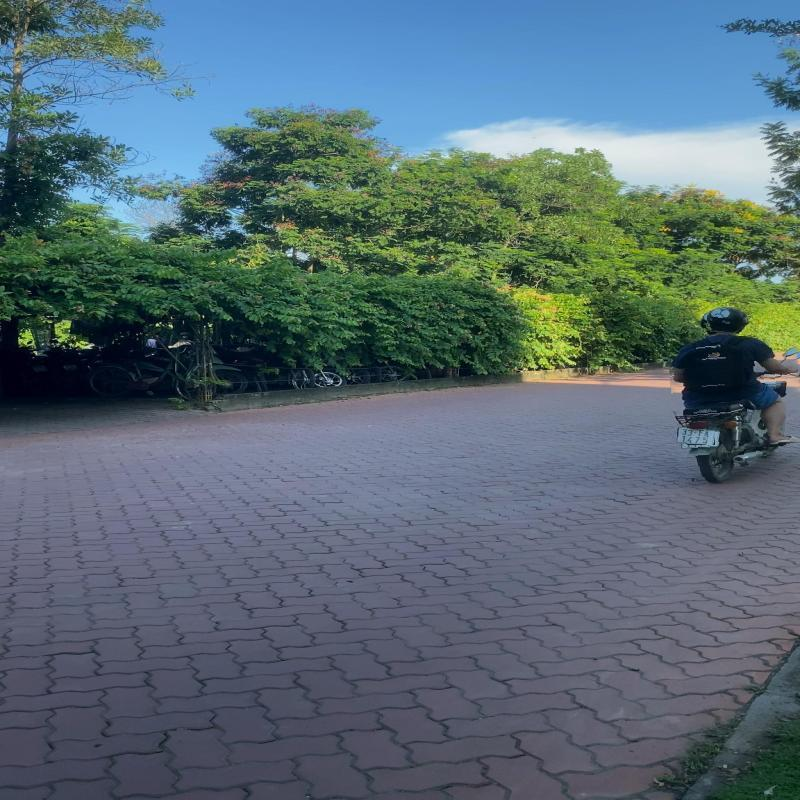helmet: (706, 306, 751, 335)
licenseplate: (677, 428, 715, 446)
motorcyclist: (667, 304, 800, 485)
